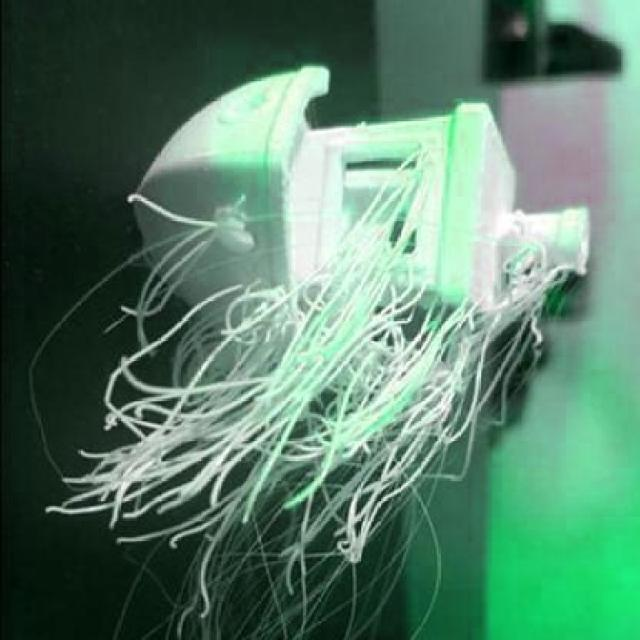Spaghetti: (29, 146, 572, 639)
